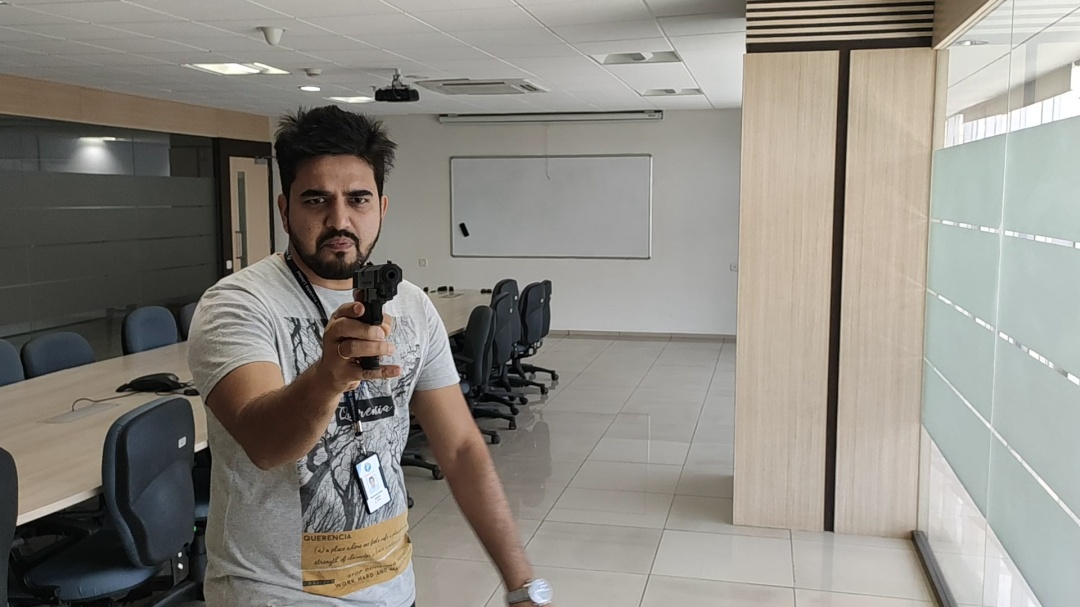gun: (348, 263, 409, 326)
